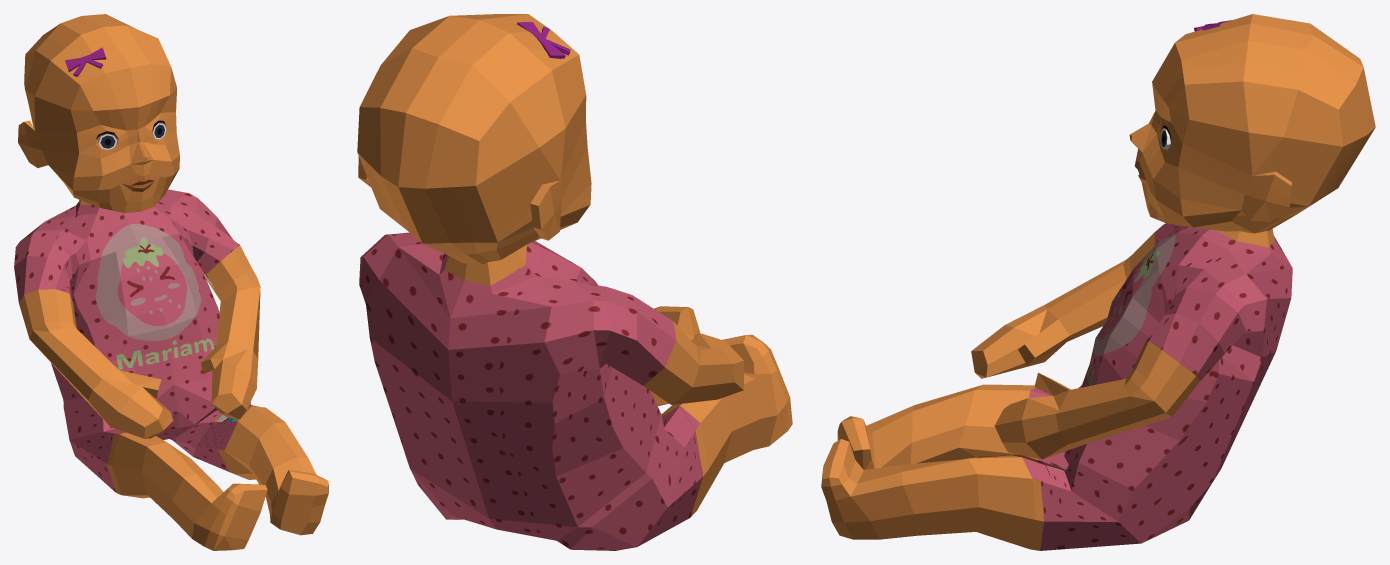
File: Doll3.fbx
3 renders of one model, left to right at view 1: azimuth 30°, elevation 25°; view 2: azimuth 150°, elevation 25°; view 3: azimuth 270°, elevation 25°, orthographic. The views are drawn at different scales.
Visible parts, largest first — view 1: Doll, Doll.004; view 2: Doll, Doll.004; view 3: Doll, Doll.004.
Boxes of the visible parts, left/top/right/bottom form: Doll: left=14, top=189, right=328, bottom=550; Doll.004: left=18, top=14, right=179, bottom=213; Doll: left=359, top=232, right=792, bottom=550; Doll.004: left=357, top=14, right=591, bottom=264; Doll: left=821, top=223, right=1292, bottom=550; Doll.004: left=1129, top=14, right=1375, bottom=233.
Bounding box in the file's own units: 19.13 × 32.37 × 33.06.
2 materials, 2 textured.
